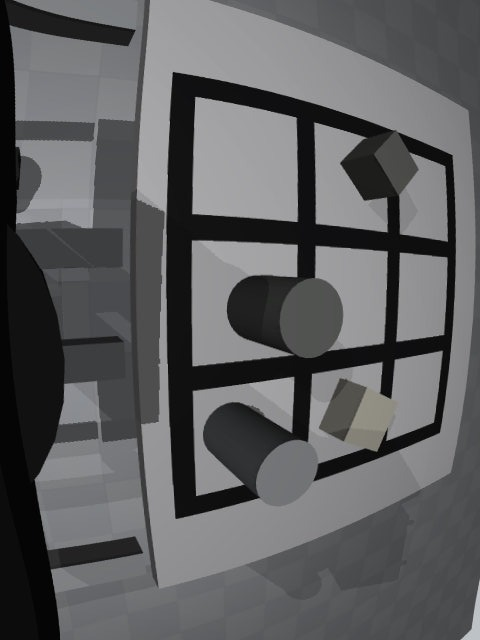can: (203, 402, 319, 507)
cube: (340, 130, 419, 201)
cylinder: (227, 276, 343, 358)
foam: (319, 378, 398, 452)
